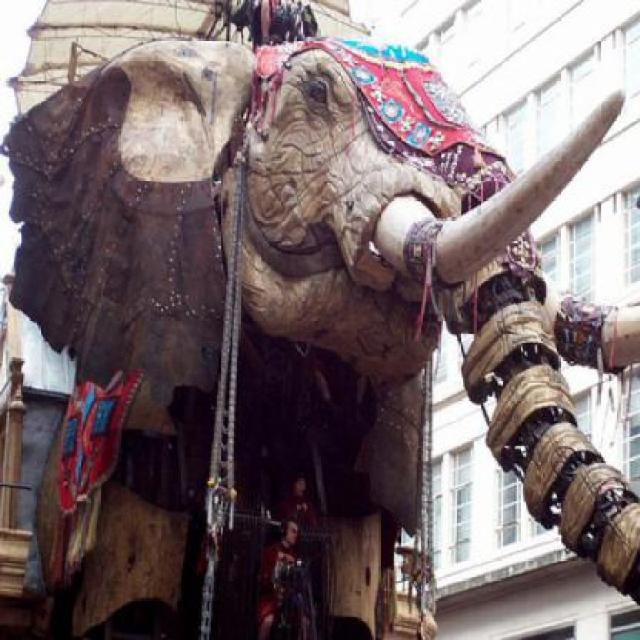Person: (258, 520, 304, 638), (271, 474, 320, 528)
